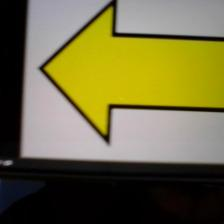left: (39, 2, 222, 147)
